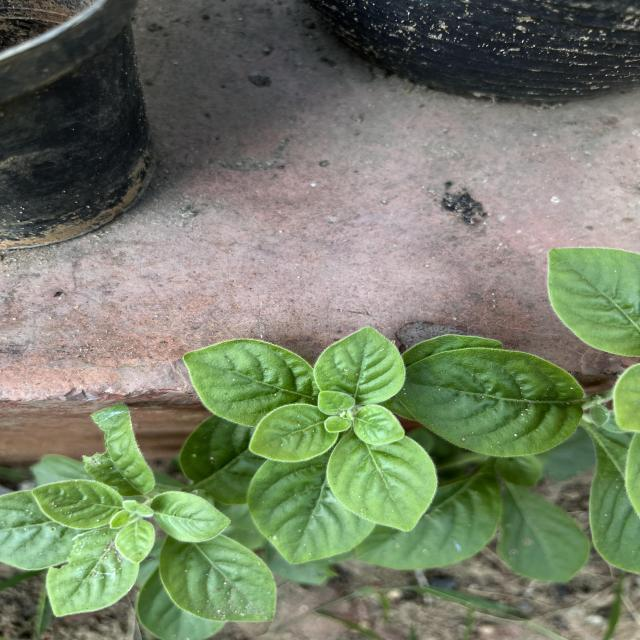Aerva lanata: (396, 344, 584, 461), (179, 336, 318, 432), (323, 430, 441, 534), (312, 322, 409, 408), (244, 400, 343, 464), (148, 489, 234, 546), (31, 476, 118, 532)
